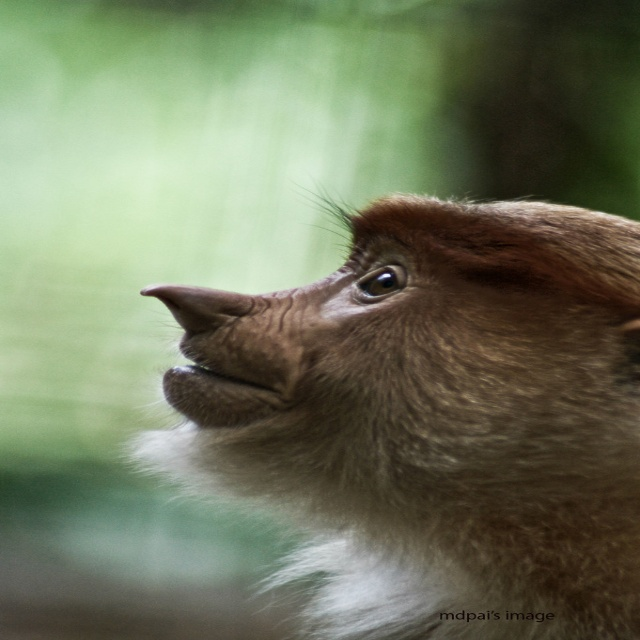Monkey: (125, 196, 639, 640)
